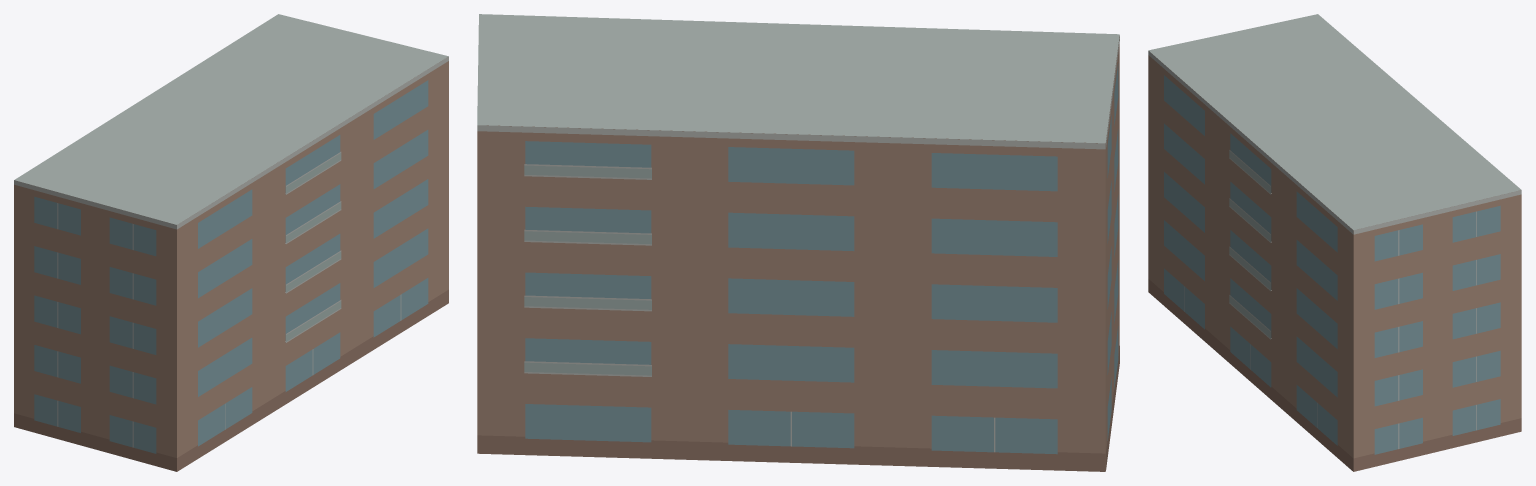
The model's file is survey-upis-32778800.glb.
The picture shows the model from 3 angles, left to right: view 1: azimuth 30°, elevation 25°; view 2: azimuth 150°, elevation 25°; view 3: azimuth 270°, elevation 25°; orthographic projection. The views are drawn at different scales.
Visible parts, largest first — view 1: survey-upis-32778800.tmp; view 2: survey-upis-32778800.tmp; view 3: survey-upis-32778800.tmp.
Part boxes in pixels (<box>): survey-upis-32778800.tmp: <box>14,14,448,471</box>; survey-upis-32778800.tmp: <box>477,14,1119,471</box>; survey-upis-32778800.tmp: <box>1148,14,1521,471</box>.
Bounding box in the file's own units: 25.35 × 13.2 × 18.49.
